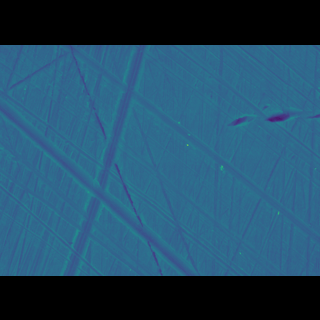Loch: (0, 113, 204, 242), (226, 120, 320, 137)
